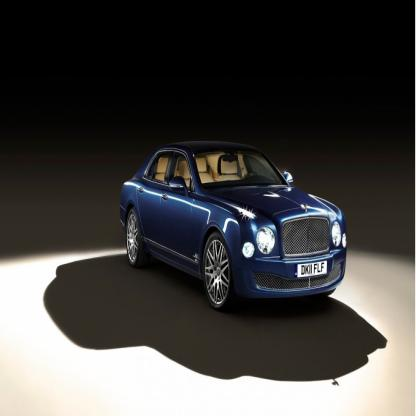Vehicle: (119, 144, 348, 314)
